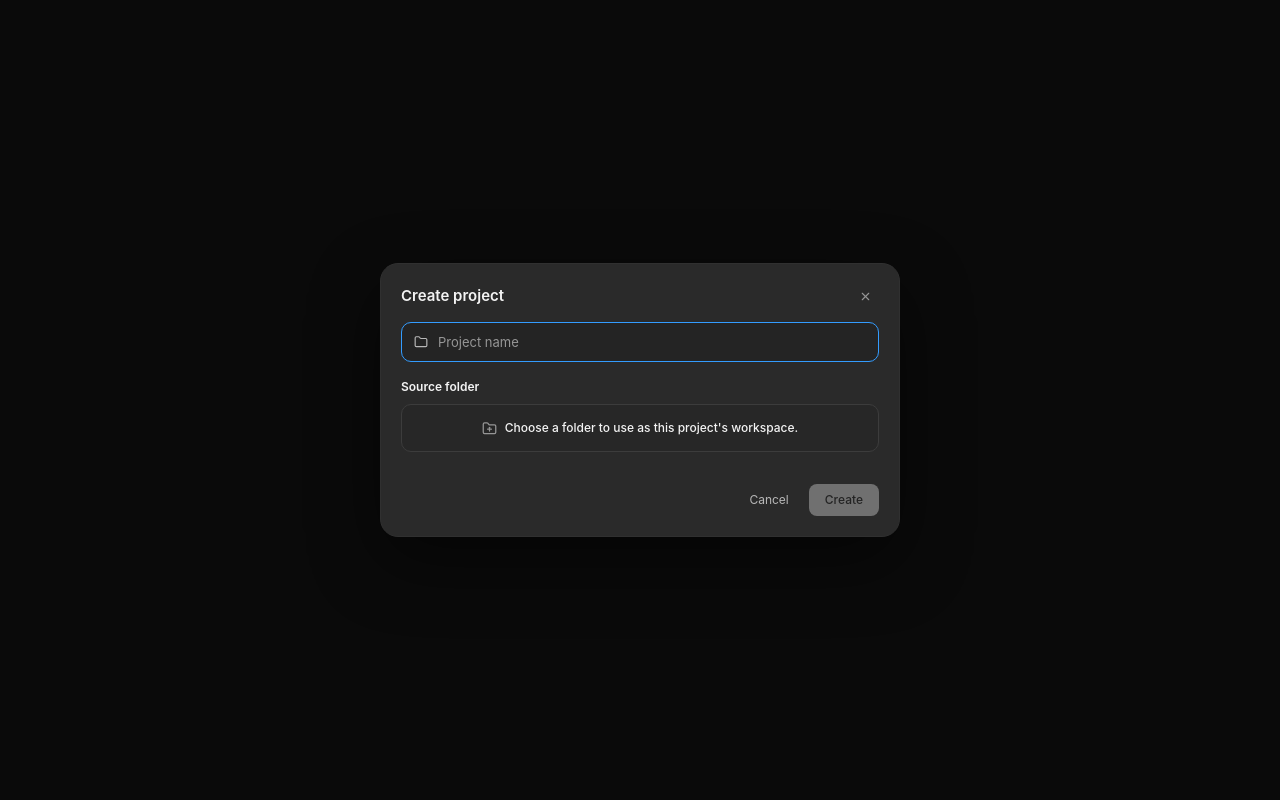
Test: CreateProjectDialog › keeps a manually edited name when the folder changes
In the field labelled "Project name": (652, 342) [438,332,866,352], type "Personal name"
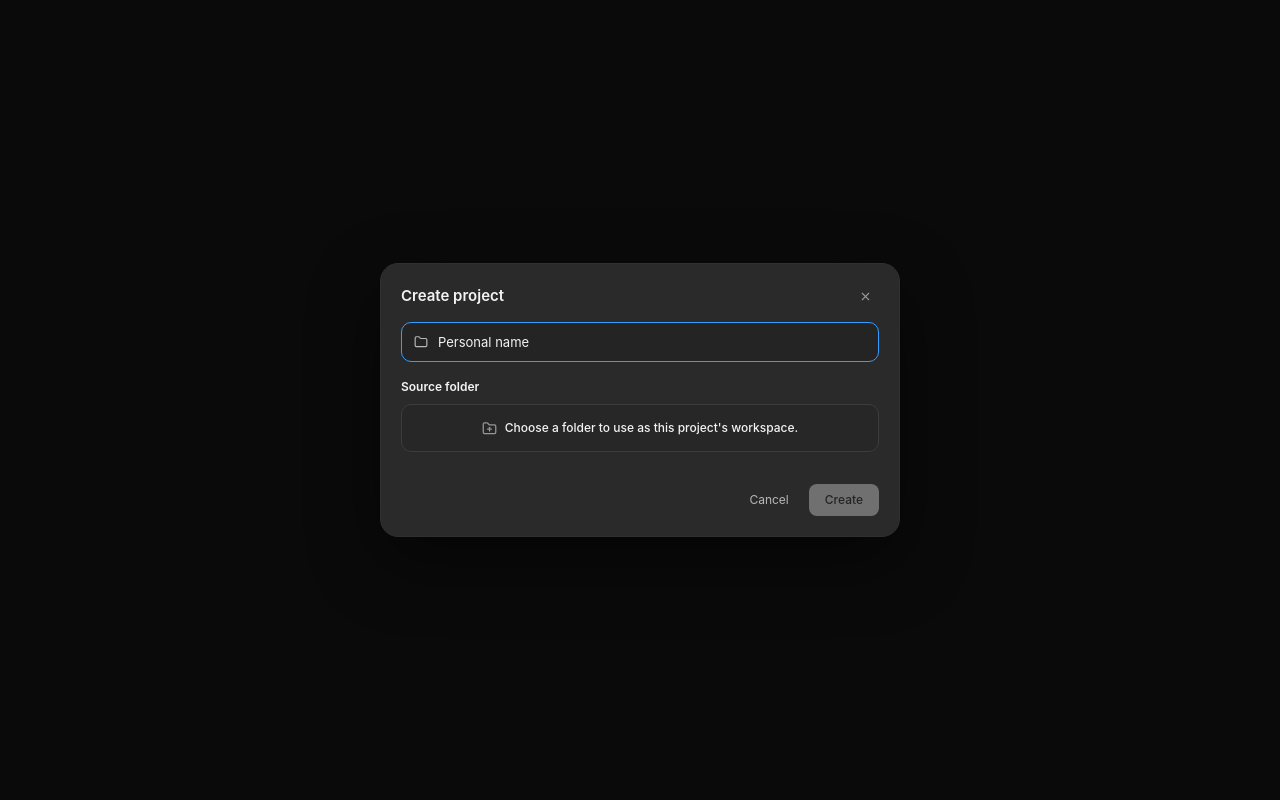
Click the button with aria-label "Add folder": (640, 428) [401,404,879,452]
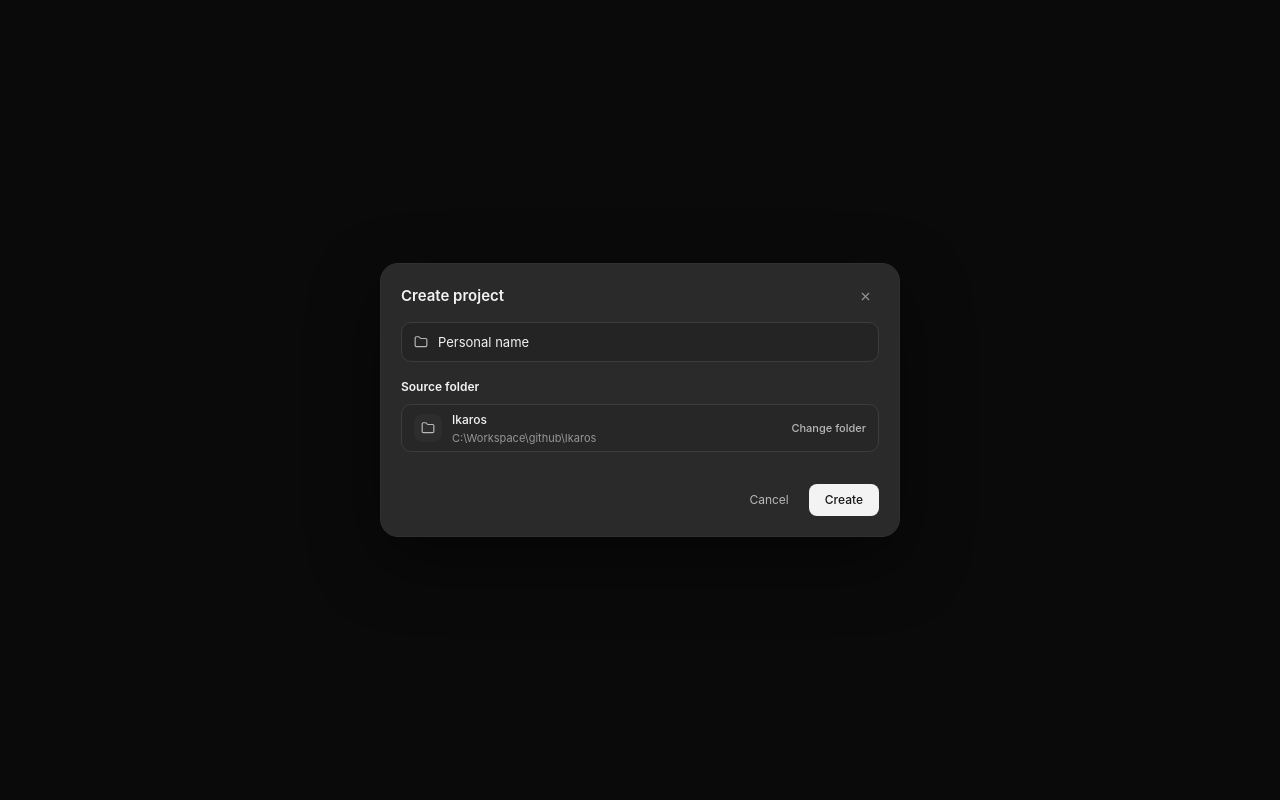
Check: the button "Change folder" is shown, box [401,404,879,452]
